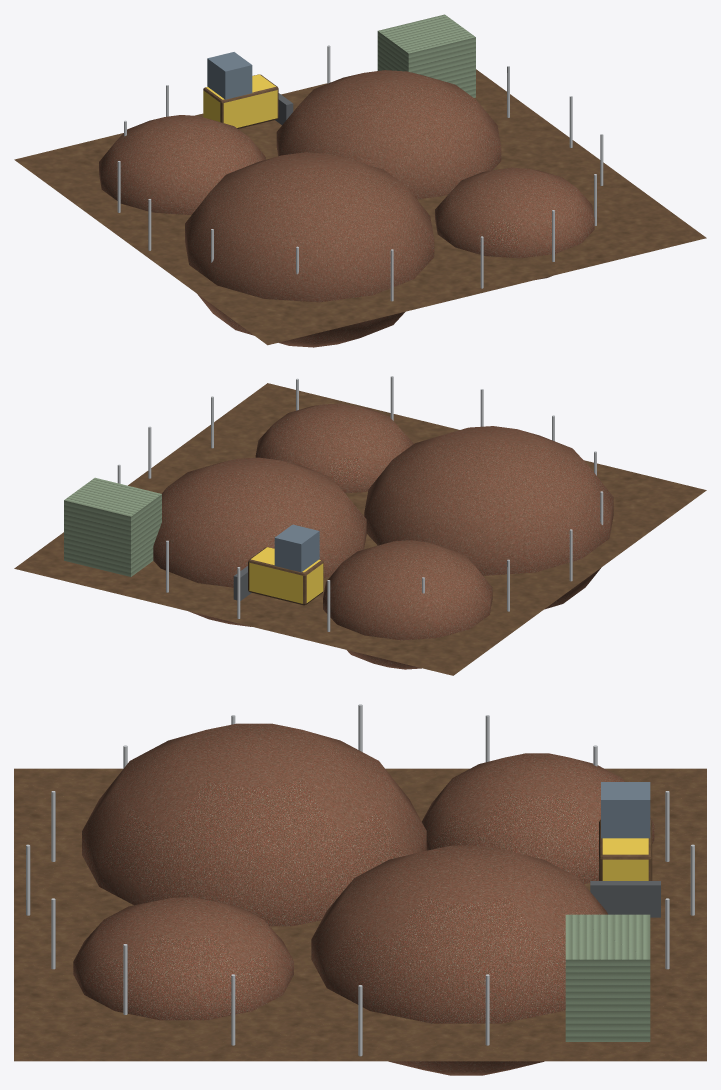
File: landfill.gltf
3 views of the same model, one above another, from view 1: azimuth 30°, elevation 25°; view 2: azimuth 150°, elevation 25°; view 3: azimuth 270°, elevation 25° (orthographic). The views are drawn at different scales.
Visible parts, largest first — view 1: landfill; view 2: landfill; view 3: landfill.
Boxes of the visible parts, bbox=[...] form: landfill: bbox=[14, 14, 706, 347]; landfill: bbox=[14, 376, 706, 675]; landfill: bbox=[14, 704, 706, 1075].
Bounding box in the file's own units: 3.92 × 1.4 × 3.92.
Materials: 7 (3 with a texture image).
